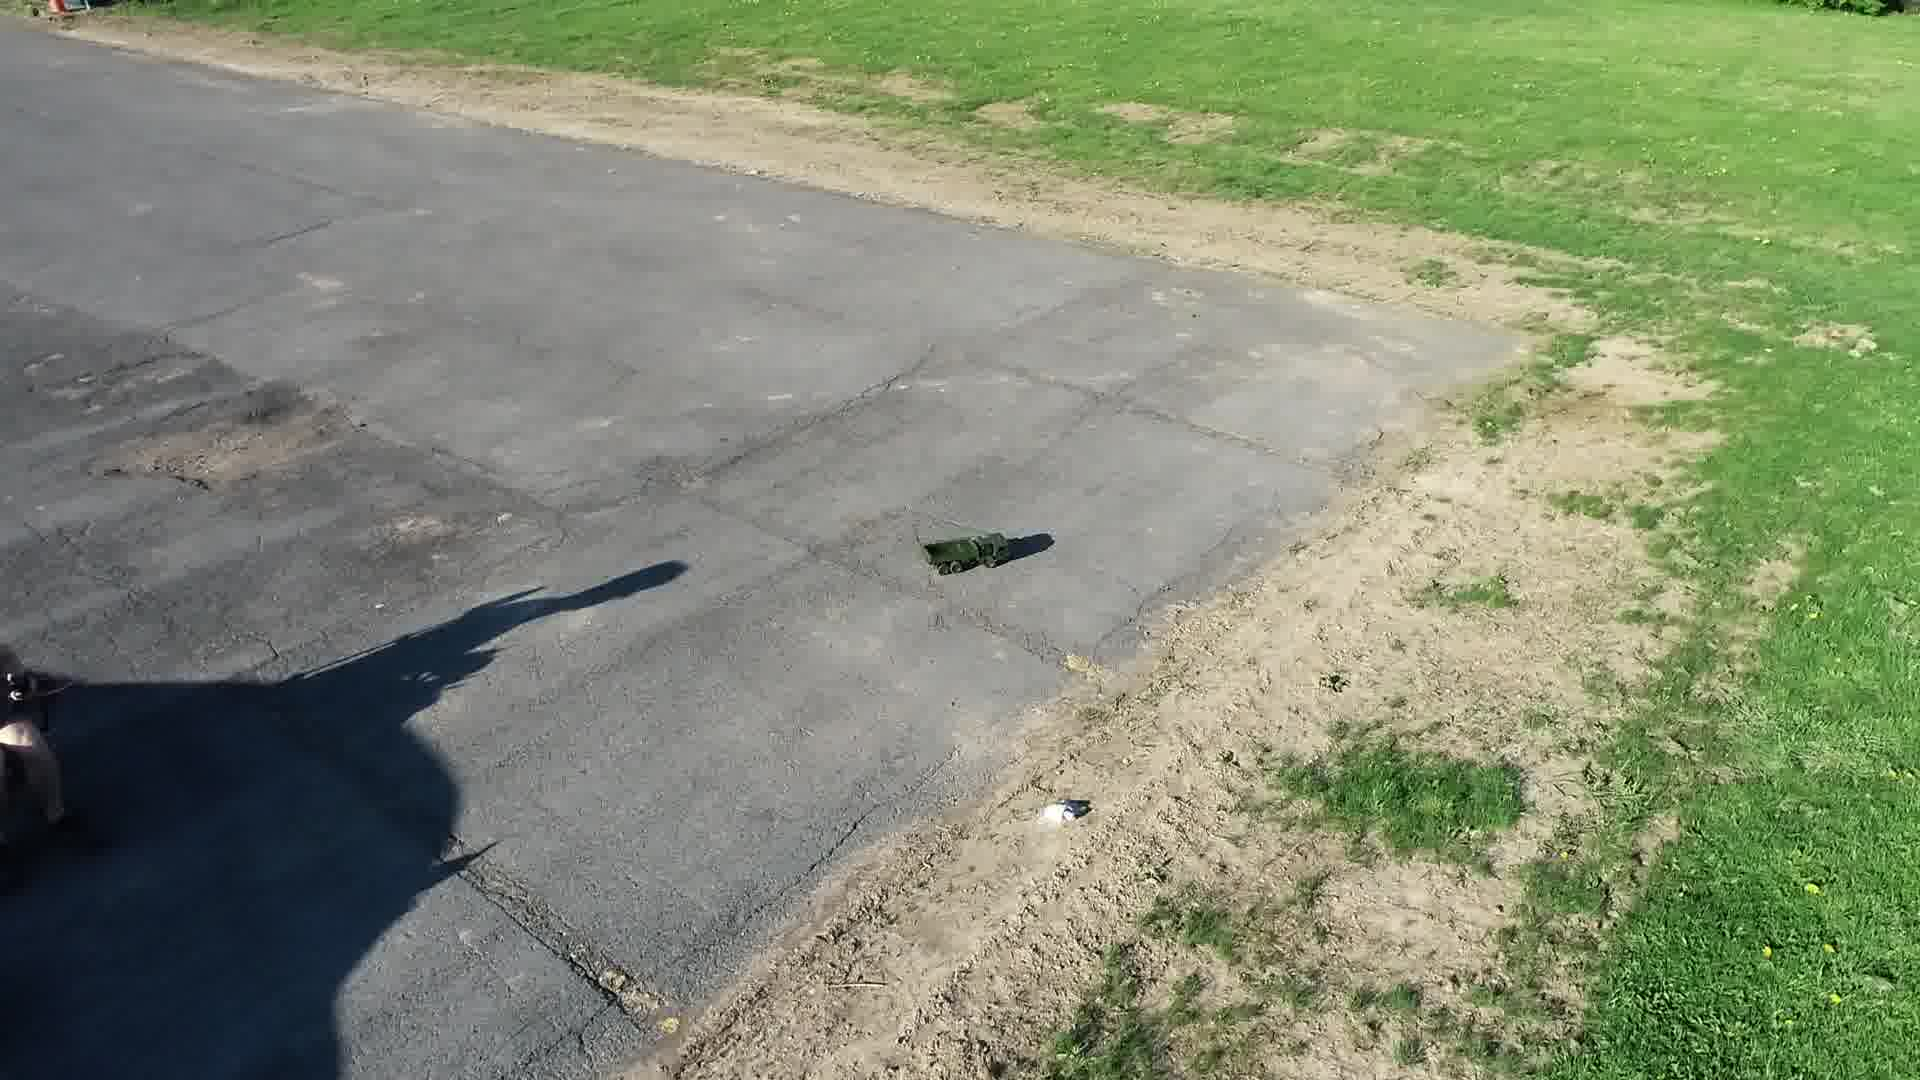transporter9: (916, 524, 1011, 578)
